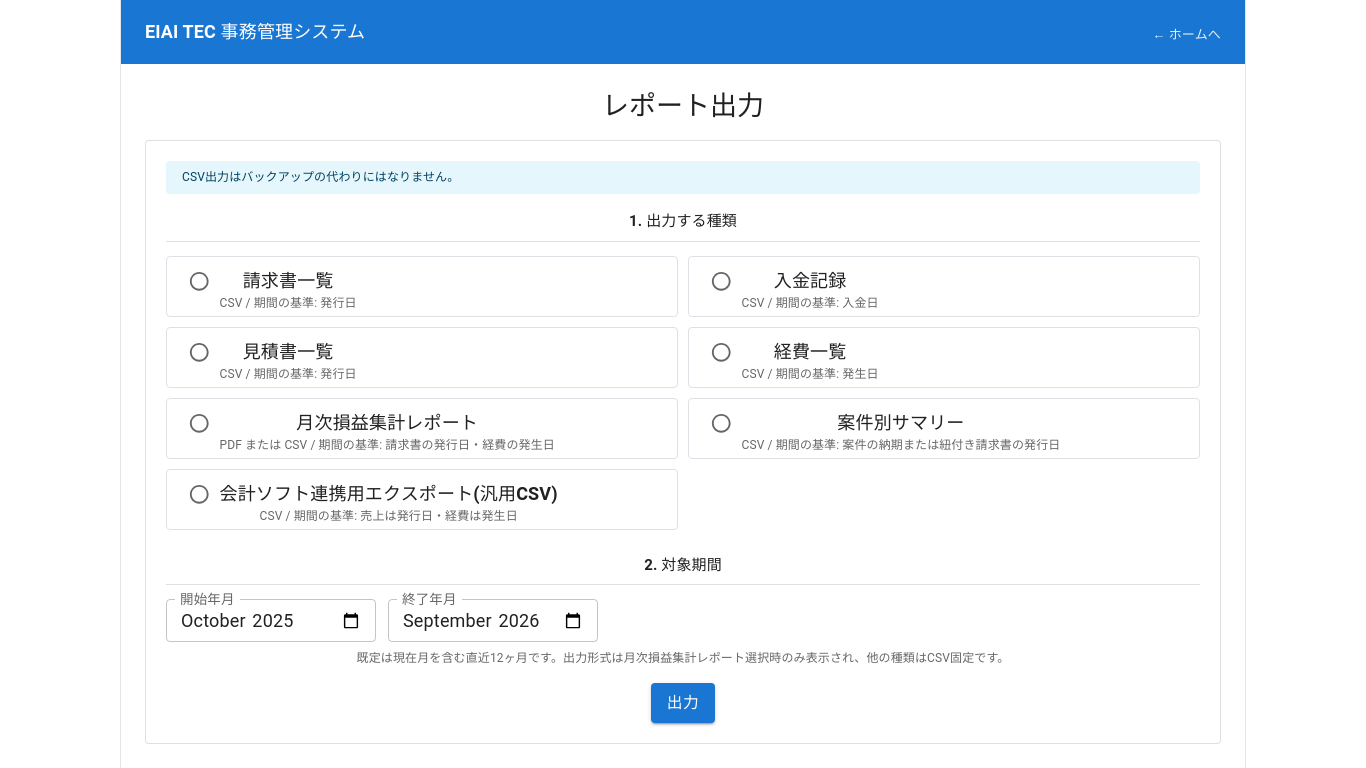
ReportExportPage (SC-18) › 種類が未選択なら出力せずメッセージを表示する
The width and height of the screenshot is (1366, 768).
Click the button "出力": click(683, 703) [651,683,715,723]
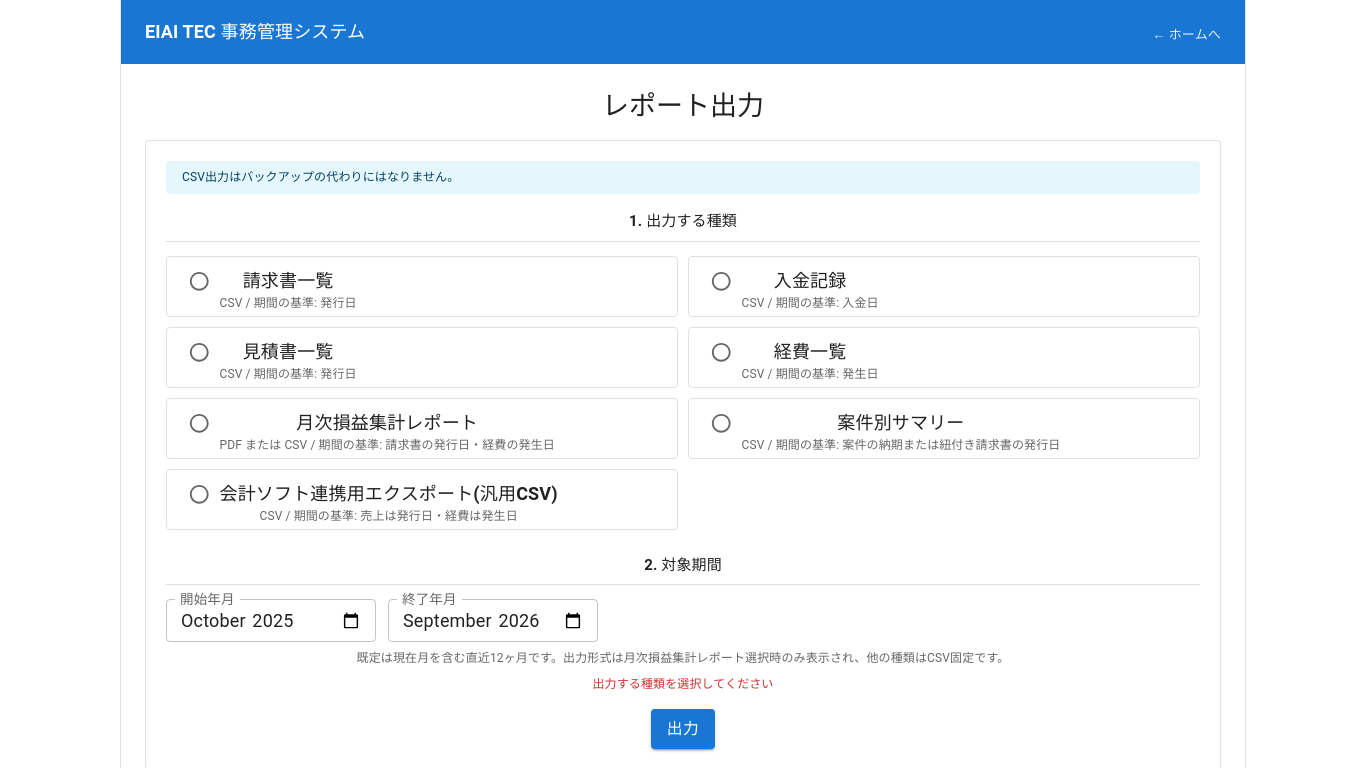
Expected: the text "出力する種類を選択してください" is shown, [592,677,774,691]
